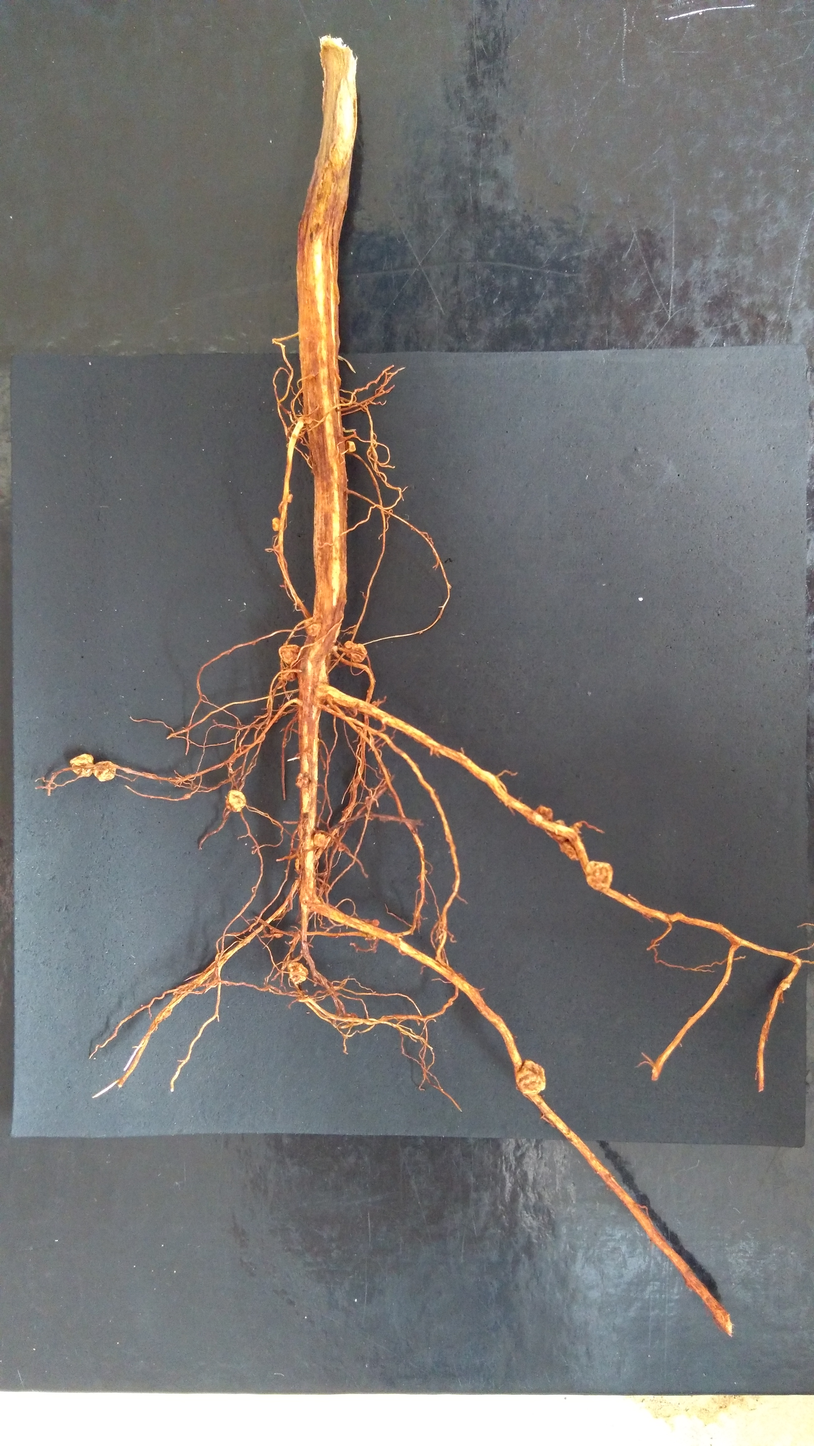nodule: (515, 1059, 547, 1095), (586, 860, 613, 893), (558, 837, 586, 861), (69, 753, 94, 778), (527, 804, 554, 827), (546, 819, 571, 843), (343, 640, 367, 662), (92, 760, 116, 782), (278, 644, 302, 665), (287, 961, 308, 984), (226, 789, 246, 813), (361, 918, 378, 940), (304, 616, 321, 637), (280, 663, 297, 682), (313, 832, 328, 848), (295, 773, 310, 788), (343, 1012, 359, 1024), (294, 854, 304, 871), (325, 701, 340, 712), (270, 517, 281, 531), (345, 440, 356, 453), (269, 928, 283, 938), (303, 416, 313, 424), (574, 821, 583, 829), (286, 494, 293, 503), (338, 842, 345, 851), (371, 919, 380, 926), (331, 645, 339, 652), (182, 793, 191, 799), (372, 700, 377, 706)
